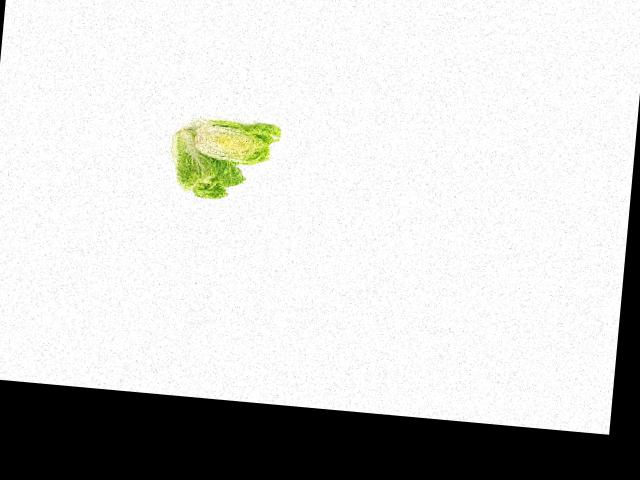lettuce: (164, 122, 254, 205)
